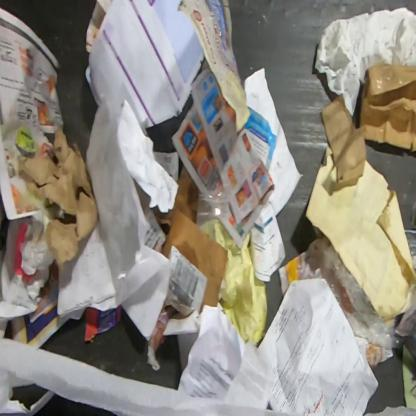cardboard: (19, 127, 99, 272), (153, 174, 228, 320), (359, 61, 415, 154), (321, 92, 367, 186)
soft_plastic: (321, 247, 405, 350), (195, 183, 230, 227)
